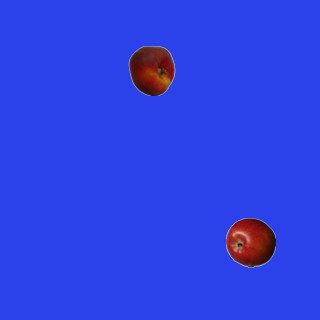Apple Braeburn: (225, 217, 275, 267)
Nectarine Flat: (126, 45, 176, 95)
